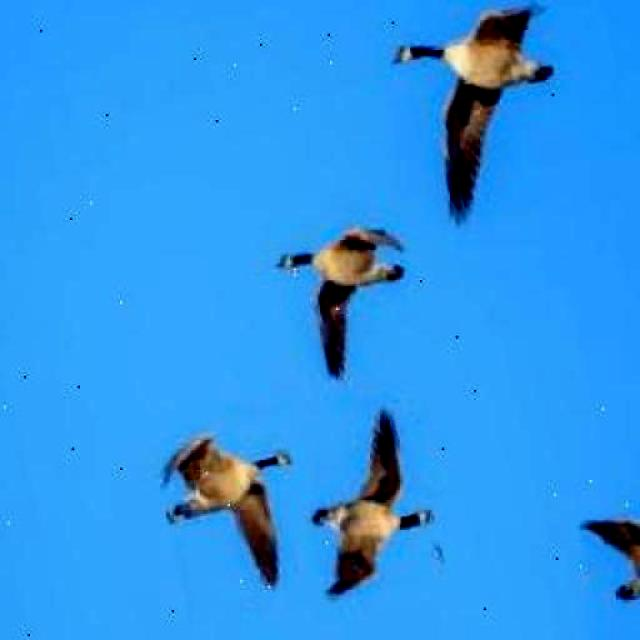airplane: (384, 0, 590, 235), (148, 408, 326, 610), (284, 400, 448, 604), (272, 214, 432, 390), (576, 490, 640, 640)
